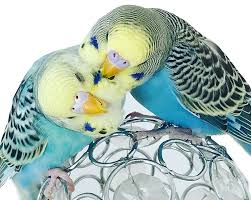budgie: (83, 7, 251, 135), (1, 49, 116, 197)
